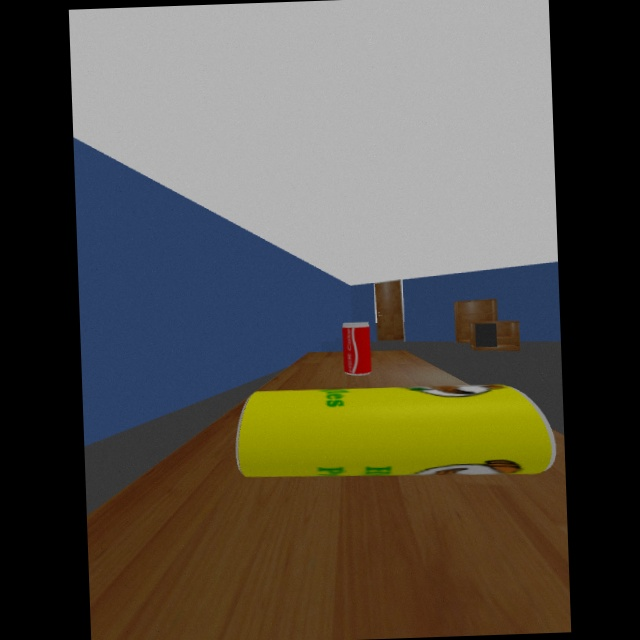chipsdose_gelb: (236, 383, 558, 477)
